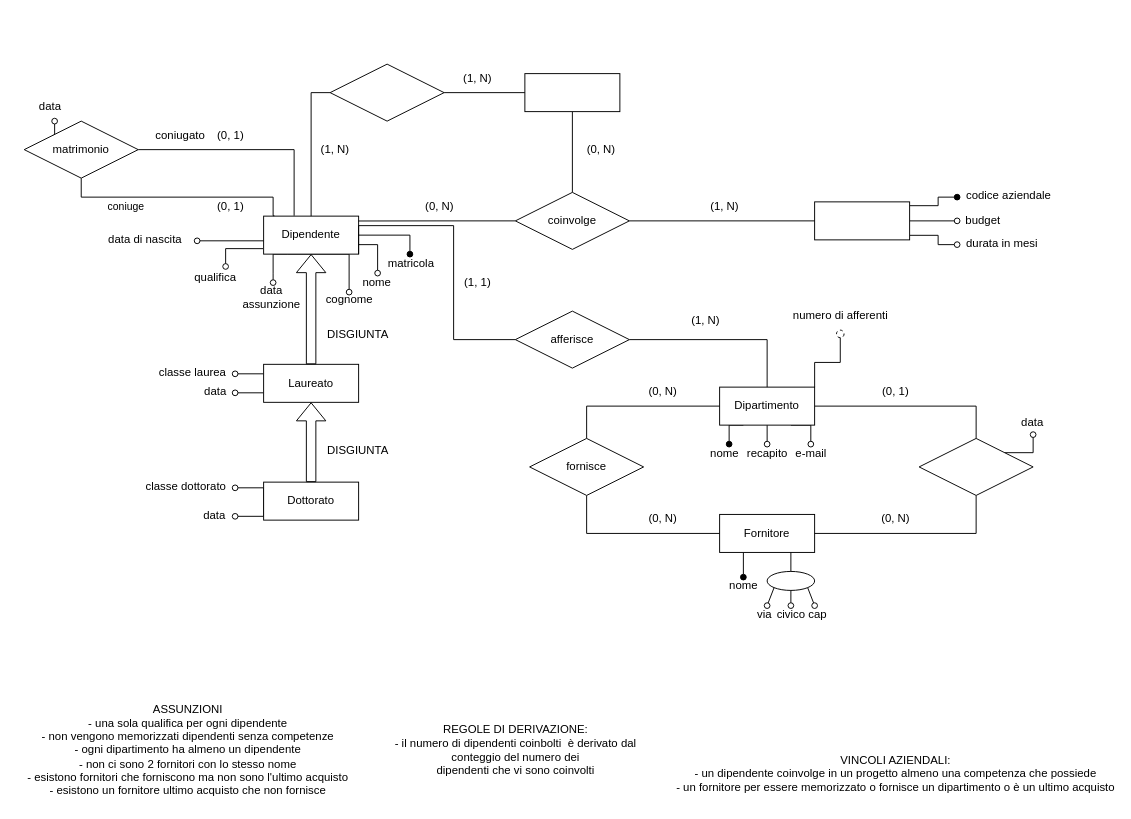
Some shapes in this 1131 by 819 pixel diagram are drawn without their labels. Each missing label, with the centre of its shape:
Competenza: point (572, 92)
indirizzo: point (790, 580)
possiede: point (386, 92)
Progetto: point (862, 220)
ultimo acquisto: point (975, 466)
